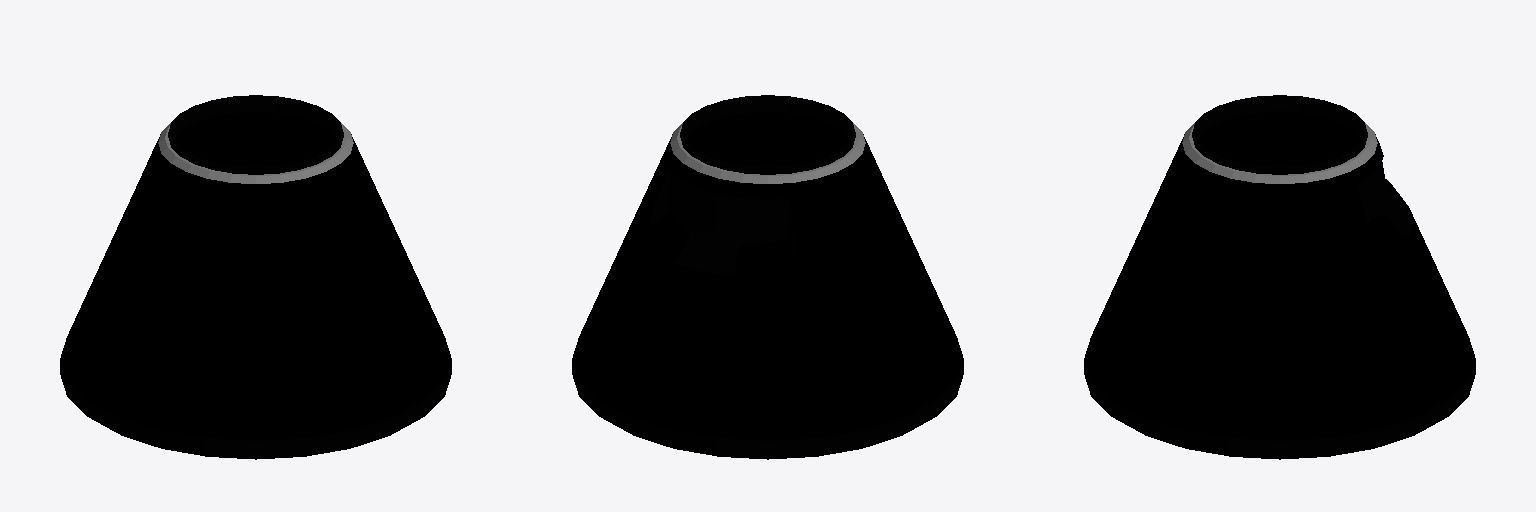
The model's file is mk12pod.obj.
The picture shows the model from 3 angles: view 1: azimuth 30°, elevation 25°; view 2: azimuth 150°, elevation 25°; view 3: azimuth 270°, elevation 25°; orthographic projection.
Parts seen in each view (by area): view 1: mk12Pod_snap1:pCylinder21, mk12Pod_snap1:Endcap_125m_Crewed:CapStructure; view 2: mk12Pod_snap1:pCylinder21, mk12Pod_snap1:Endcap_125m_Crewed:CapStructure; view 3: mk12Pod_snap1:pCylinder21, mk12Pod_snap1:Endcap_125m_Crewed:CapStructure.
Boxes of the visible parts, x1,y1,x2,y2 form: mk12Pod_snap1:pCylinder21: [60, 95, 451, 459]; mk12Pod_snap1:Endcap_125m_Crewed:CapStructure: [175, 112, 336, 166]; mk12Pod_snap1:pCylinder21: [572, 95, 963, 459]; mk12Pod_snap1:Endcap_125m_Crewed:CapStructure: [687, 112, 848, 166]; mk12Pod_snap1:pCylinder21: [1084, 95, 1475, 459]; mk12Pod_snap1:Endcap_125m_Crewed:CapStructure: [1199, 111, 1360, 166].
Bounding box in the file's own units: 2.5 × 1.75 × 2.5.